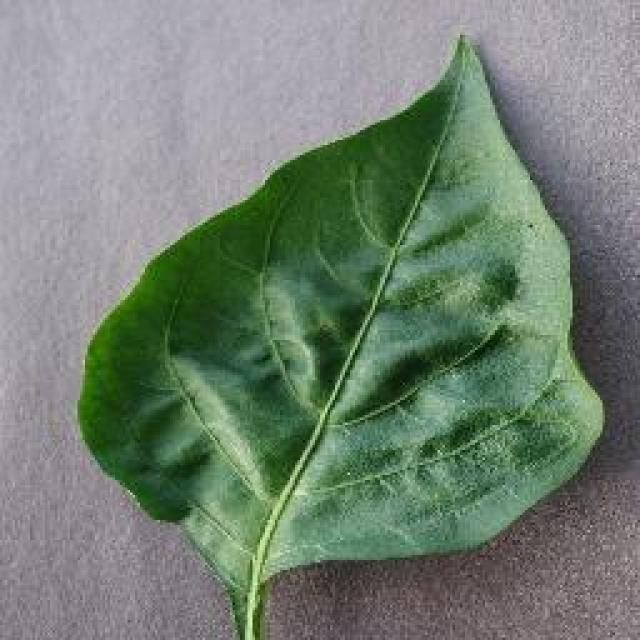Leaf: (66, 6, 625, 598)
